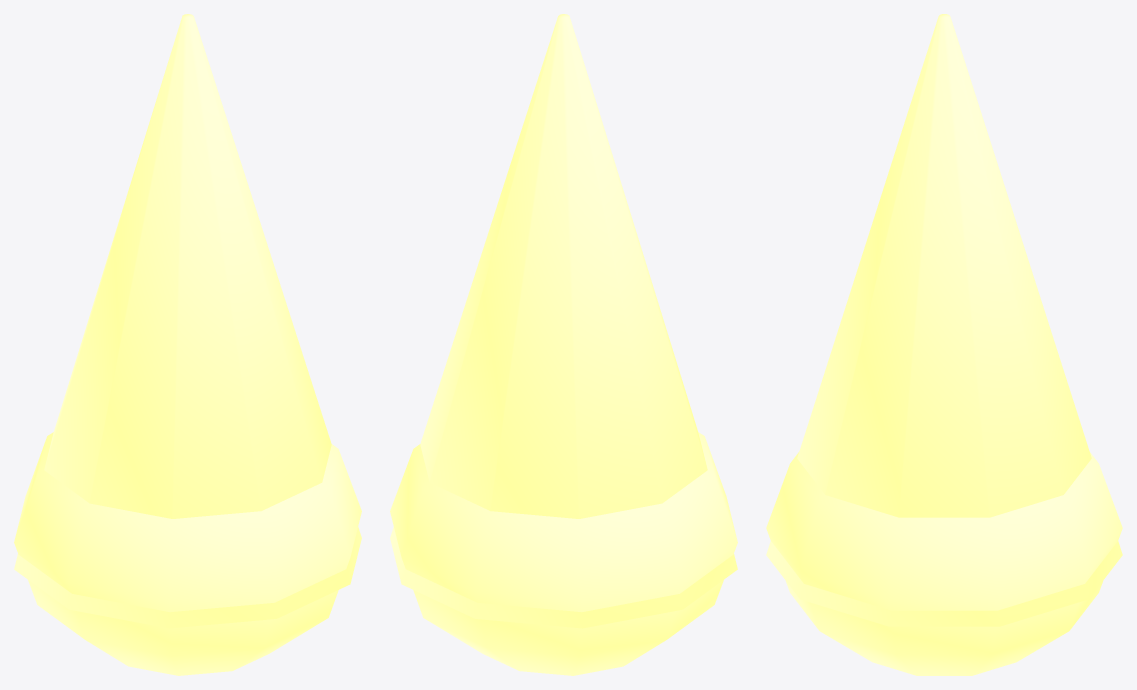
Rendered from FlameLick.fbx.
The picture shows the model from 3 angles, left to right: view 1: azimuth 30°, elevation 25°; view 2: azimuth 150°, elevation 25°; view 3: azimuth 270°, elevation 25°; orthographic projection.
Visible parts, largest first — view 1: Emit_Tongue0, Emit_Base0; view 2: Emit_Tongue0, Emit_Base0; view 3: Emit_Tongue0, Emit_Base0.
Boxes of the visible parts, x1=… form: Emit_Tongue0: x1=14, y1=14, x2=361, y2=628; Emit_Base0: x1=14, y1=432, x2=361, y2=675; Emit_Tongue0: x1=390, y1=14, x2=737, y2=628; Emit_Base0: x1=390, y1=432, x2=737, y2=675; Emit_Tongue0: x1=766, y1=14, x2=1122, y2=626; Emit_Base0: x1=766, y1=452, x2=1122, y2=675.
Bounding box in the file's own units: 0.5706 × 0.6 × 1.19.
